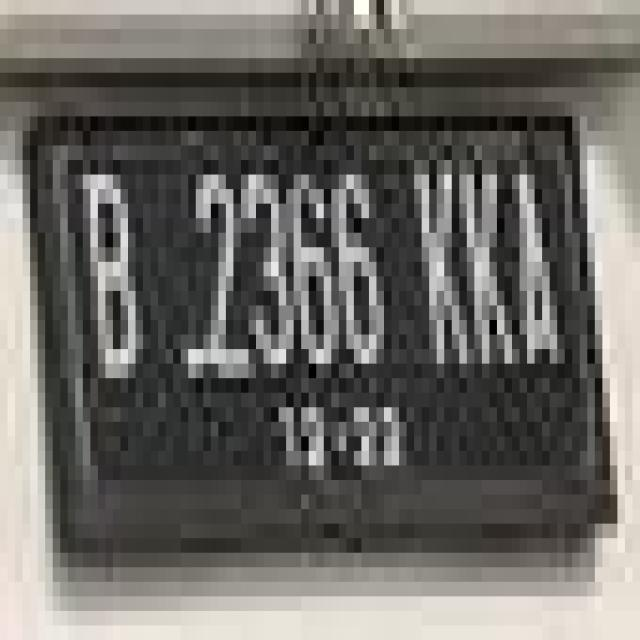2: (183, 164, 256, 387)
3: (234, 154, 303, 378)
6: (322, 150, 399, 384), (283, 154, 346, 375)
A: (502, 153, 577, 397)
B: (72, 161, 147, 388)
K: (456, 153, 523, 387), (408, 154, 475, 380)
